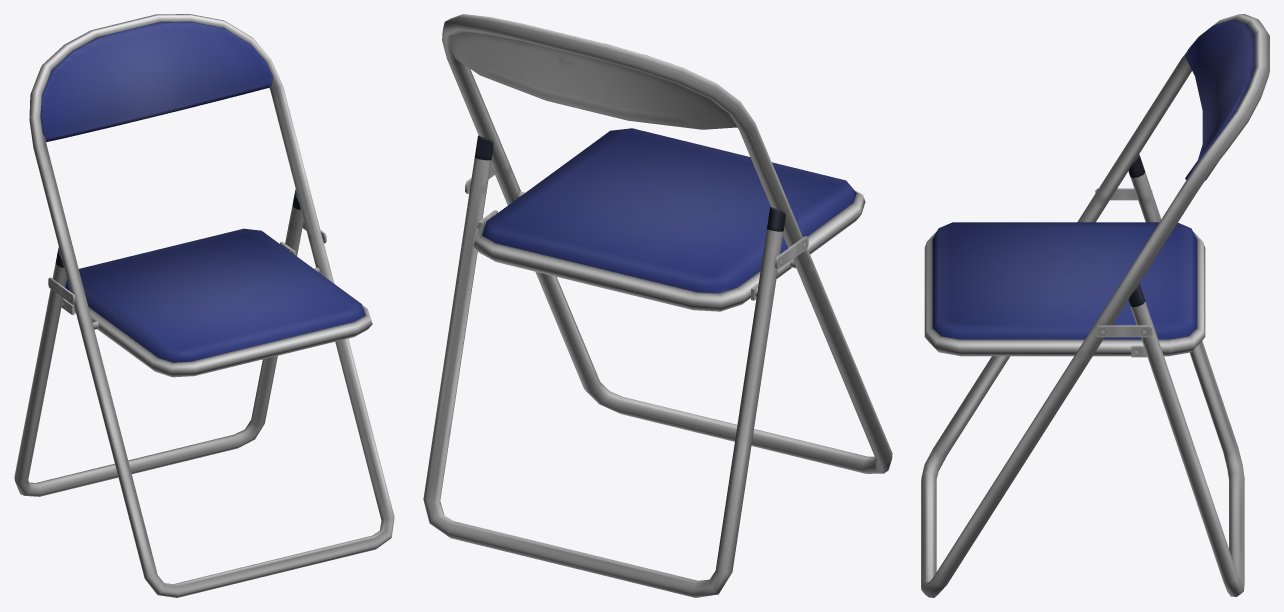
File: jsf_FoldingChair_a.fbx
3 renders of one model, left to right at view 1: azimuth 30°, elevation 25°; view 2: azimuth 150°, elevation 25°; view 3: azimuth 270°, elevation 25°, orthographic. The views are drawn at different scales.
Parts seen in each view (by area): view 1: jsf_FoldingChair_a; view 2: jsf_FoldingChair_a; view 3: jsf_FoldingChair_a.
Part boxes in pixels (x1,y1,x2,y2): jsf_FoldingChair_a: [14, 14, 394, 597]; jsf_FoldingChair_a: [423, 14, 892, 597]; jsf_FoldingChair_a: [921, 14, 1269, 597].
Size of the model in its own units: 44.65 by 74.36 by 47.71.
